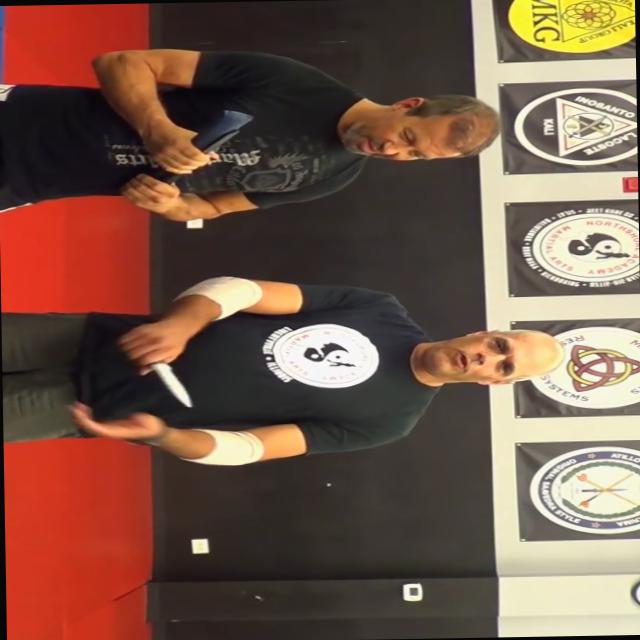knife: (115, 328, 197, 411)
